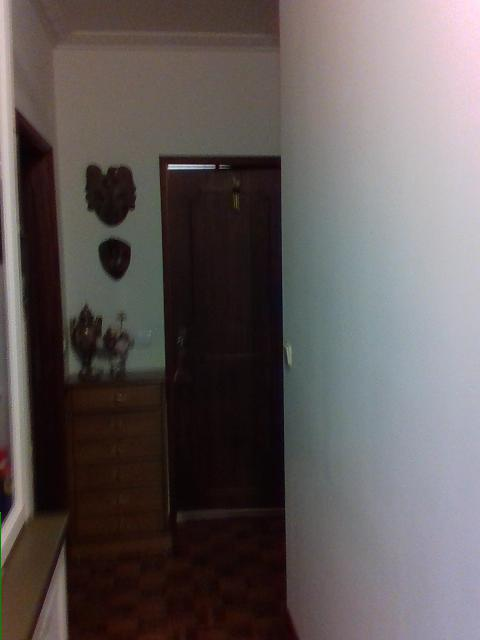door: (158, 156, 285, 503), (14, 106, 67, 517)
